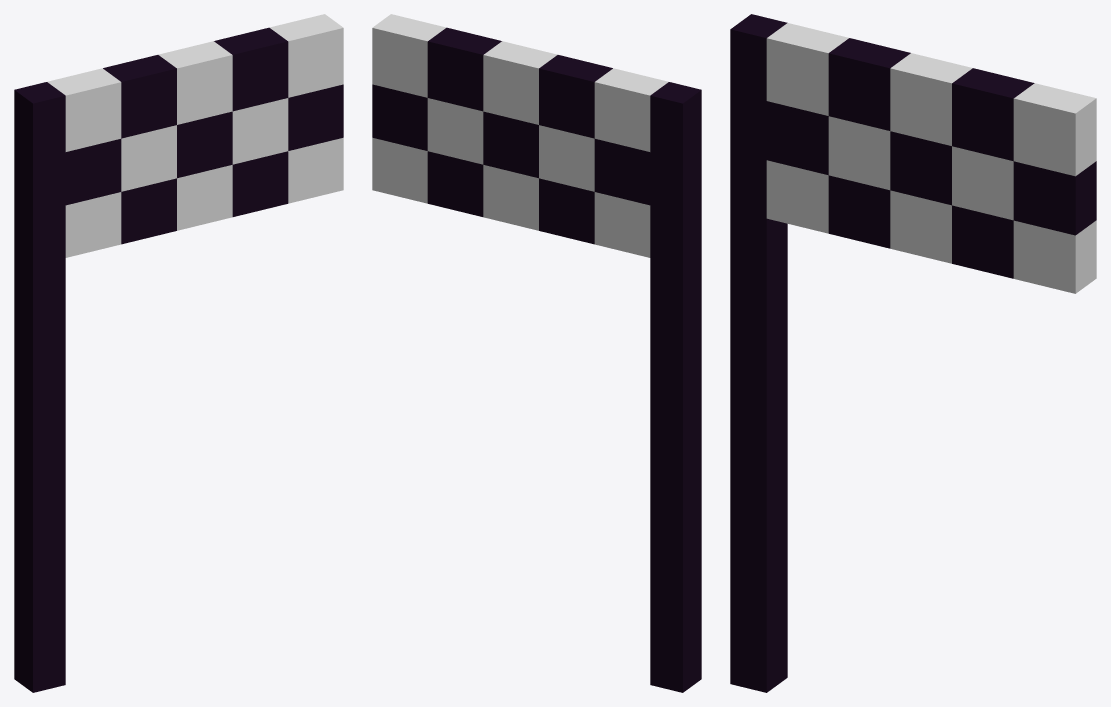
The model's file is Flag.fbx.
3 views of the same model, side by side, from view 1: azimuth 30°, elevation 25°; view 2: azimuth 150°, elevation 25°; view 3: azimuth 330°, elevation 25° (orthographic). The views are drawn at different scales.
Visible parts, largest first — view 1: Flag; view 2: Flag; view 3: Flag.
Part boxes in pixels (x1,y1,x2,y2): Flag: [14, 14, 343, 692]; Flag: [372, 14, 701, 692]; Flag: [730, 14, 1096, 692].
Size of the model in its own units: 380 by 689 by 40.
